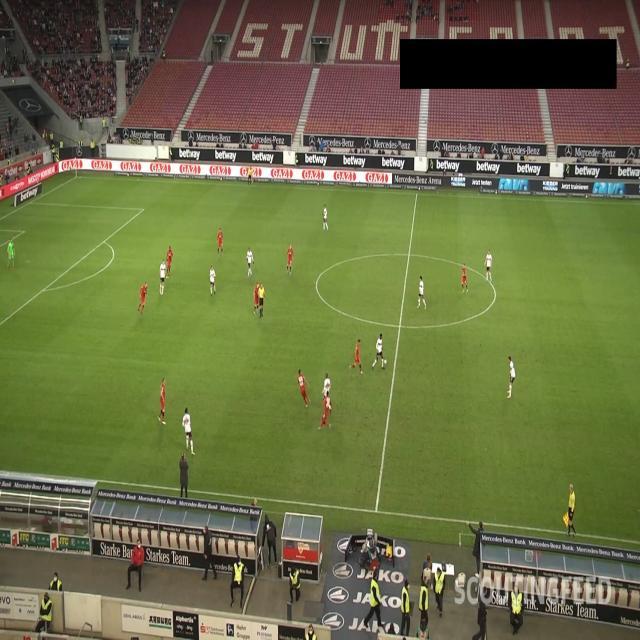ball: (383, 359, 388, 365)
